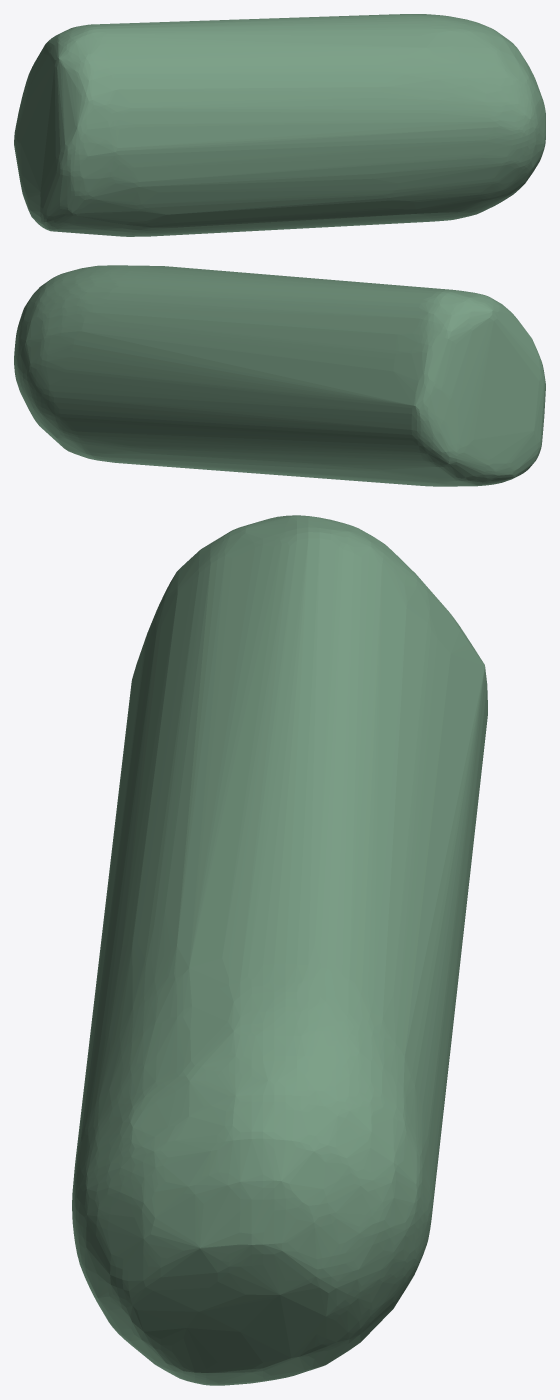
The model's file is 2_decomposed.obj.
3 renders of one model, top to bottom at view 1: azimuth 30°, elevation 25°; view 2: azimuth 150°, elevation 25°; view 3: azimuth 270°, elevation 25°, orthographic. The views are drawn at different scales.
Visible parts, largest first — view 1: geometry_0; view 2: geometry_0; view 3: geometry_0.
Boxes of the visible parts, left/top/right/bottom form: geometry_0: left=14, top=14, right=545, bottom=236; geometry_0: left=14, top=265, right=545, bottom=486; geometry_0: left=72, top=515, right=487, bottom=1385.
Size of the model in its own units: 2.31 by 1.13 by 0.8384.
